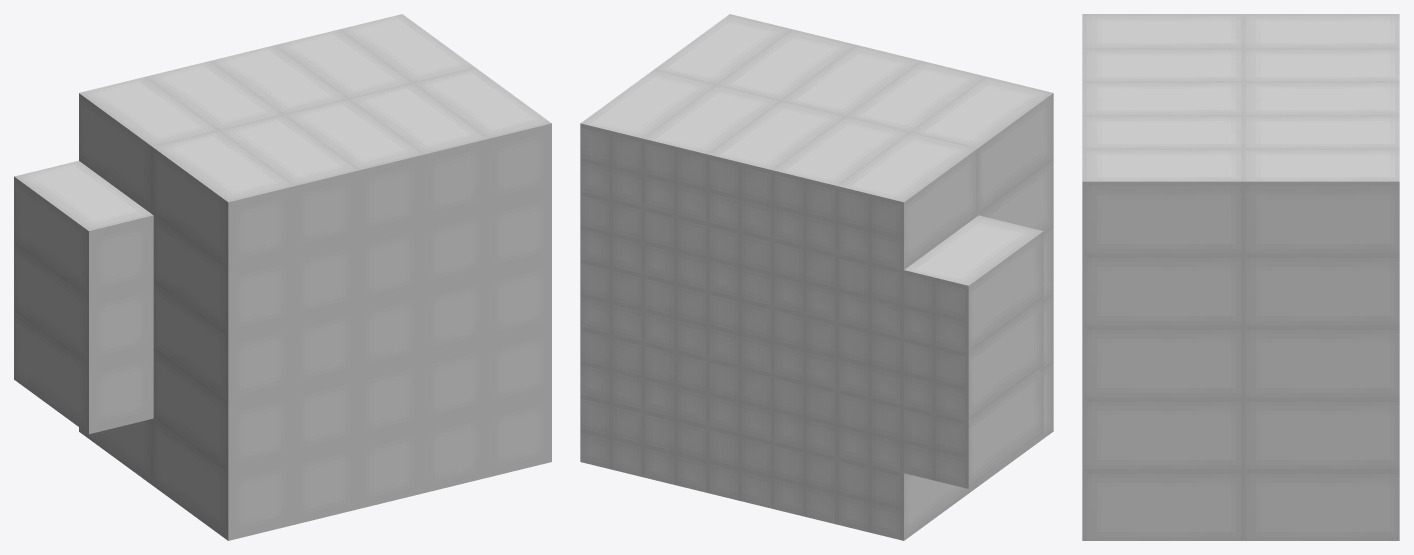
File: lvl0.glb
3 views of the same model, side by side, from view 1: azimuth 30°, elevation 25°; view 2: azimuth 150°, elevation 25°; view 3: azimuth 270°, elevation 25° (orthographic). The views are drawn at different scales.
Parts seen in each view (by area): view 1: Plane.050, Plane.051, Plane.052, Plane.054, Plane.053, Plane.026, Plane.029, Plane.032, Plane.030, Plane.041, Plane.064, Plane.042 (+37 smaller); view 2: Plane.029, Plane.032, Plane.052, Plane.026, Plane.030, Plane.062, Plane.039, Plane.041, Plane.066, Plane.040, Plane.043, Plane.064 (+37 smaller); view 3: Plane.045, Plane.046, Plane.047, Plane.067, Plane.068, Plane.069, Plane.048, Plane.049, Plane.070, Plane.071, Plane.040, Plane.041 (+8 smaller).
Part boxes in pixels (x1=…): Plane.050: x1=153, y1=283, x2=228, y2=404; Plane.051: x1=153, y1=216, x2=228, y2=337; Plane.052: x1=153, y1=148, x2=228, y2=269; Plane.054: x1=153, y1=351, x2=228, y2=472; Plane.053: x1=153, y1=419, x2=228, y2=540; Plane.026: x1=14, y1=244, x2=88, y2=366; Plane.029: x1=14, y1=176, x2=88, y2=298; Plane.032: x1=14, y1=312, x2=88, y2=433; Plane.030: x1=79, y1=93, x2=153, y2=214; Plane.041: x1=144, y1=61, x2=282, y2=131; Plane.064: x1=283, y1=100, x2=421, y2=170; Plane.042: x1=208, y1=45, x2=347, y2=115; Plane.029: x1=968, y1=231, x2=1043, y2=353; Plane.032: x1=968, y1=367, x2=1043, y2=488; Plane.052: x1=978, y1=93, x2=1053, y2=214; Plane.026: x1=968, y1=299, x2=1043, y2=420; Plane.030: x1=904, y1=148, x2=978, y2=269; Plane.062: x1=914, y1=77, x2=1052, y2=147; Plane.039: x1=904, y1=215, x2=1042, y2=285; Plane.041: x1=775, y1=116, x2=913, y2=186; Plane.066: x1=655, y1=14, x2=794, y2=84; Plane.040: x1=839, y1=132, x2=978, y2=202; Plane.043: x1=645, y1=84, x2=783, y2=154; Plane.064: x1=785, y1=45, x2=923, y2=115; Plane.045: x1=1241, y1=181, x2=1399, y2=253; Plane.046: x1=1241, y1=253, x2=1399, y2=325; Plane.047: x1=1241, y1=325, x2=1399, y2=397; Plane.067: x1=1082, y1=181, x2=1240, y2=253; Plane.068: x1=1082, y1=253, x2=1240, y2=325; Plane.069: x1=1082, y1=325, x2=1240, y2=397; Plane.048: x1=1241, y1=397, x2=1399, y2=468; Plane.049: x1=1241, y1=469, x2=1399, y2=540; Plane.070: x1=1082, y1=397, x2=1240, y2=468; Plane.071: x1=1082, y1=469, x2=1240, y2=540; Plane.040: x1=1241, y1=14, x2=1399, y2=47; Plane.041: x1=1241, y1=47, x2=1399, y2=80.
Bounding box in the file's own units: 12 × 10 × 8.
Materials: 3 (3 with a texture image).
